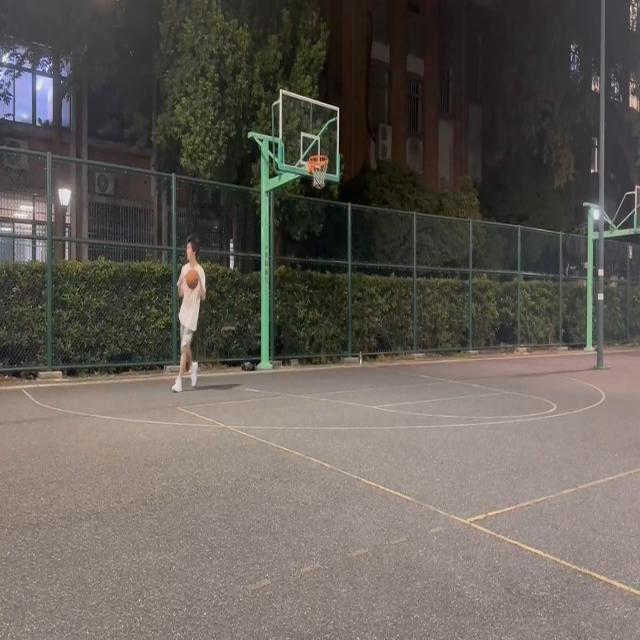basketball: (309, 154, 328, 190)
rim: (186, 270, 198, 288)
